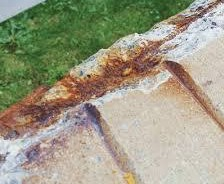Corrosion: (1, 39, 164, 142)
Exposed reinforcement: (106, 1, 222, 77)
Spalling: (1, 1, 224, 164)
